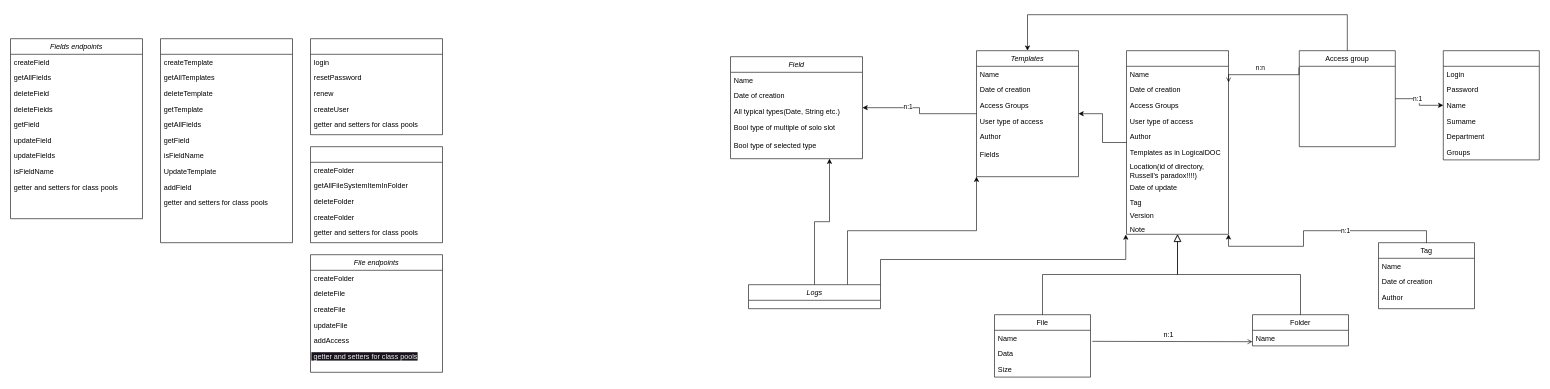
Image size: 1550x389. Some labels were removed from this diagram. The box of each missing label's shape, as (x1, y1, x2, y2) in pixels:
Auth endpoints: (310, 38, 442, 135)
FileSystemItem: (1126, 50, 1228, 234)
Folder endpoints: (310, 146, 442, 243)
Templates endpoints: (160, 38, 292, 243)
User: (1443, 50, 1539, 160)
